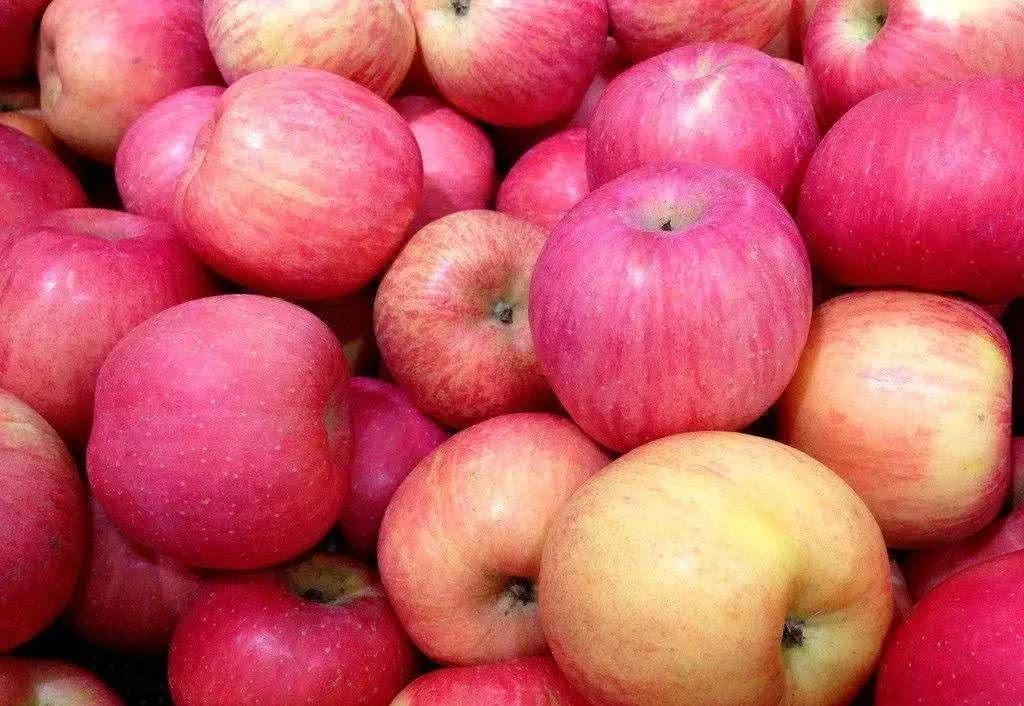apple: (538, 432, 892, 703), (540, 179, 833, 455), (86, 308, 358, 584), (799, 288, 1023, 552), (176, 68, 424, 302), (1, 206, 216, 438), (798, 87, 1021, 304), (371, 208, 551, 427), (167, 550, 416, 703), (583, 40, 816, 194), (35, 1, 218, 171), (413, 5, 611, 126), (206, 1, 419, 97)
